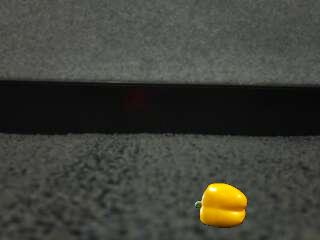Capsicum: (193, 182, 248, 229)
